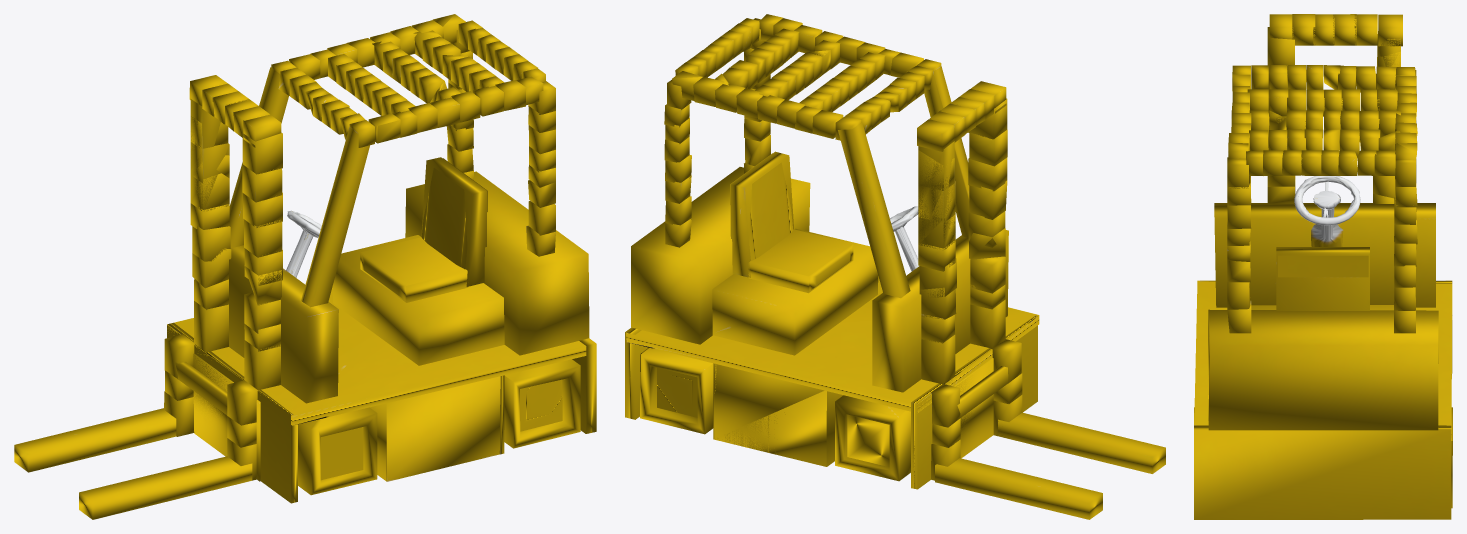
Rendered from empilhadeira.glb.
The picture shows the model from 3 angles, left to right: view 1: azimuth 30°, elevation 25°; view 2: azimuth 150°, elevation 25°; view 3: azimuth 270°, elevation 25°; orthographic projection. The views are drawn at different scales.
Visible parts, largest first — view 1: geometry_0; view 2: geometry_0; view 3: geometry_0.
Part boxes in pixels (left/top/right/bottom): geometry_0: left=14, top=14, right=596, bottom=519; geometry_0: left=625, top=14, right=1165, bottom=519; geometry_0: left=1194, top=14, right=1452, bottom=519.
Size of the model in its own units: 0.957 by 0.6855 by 0.4517.
Materials: 1 (1 with a texture image).
